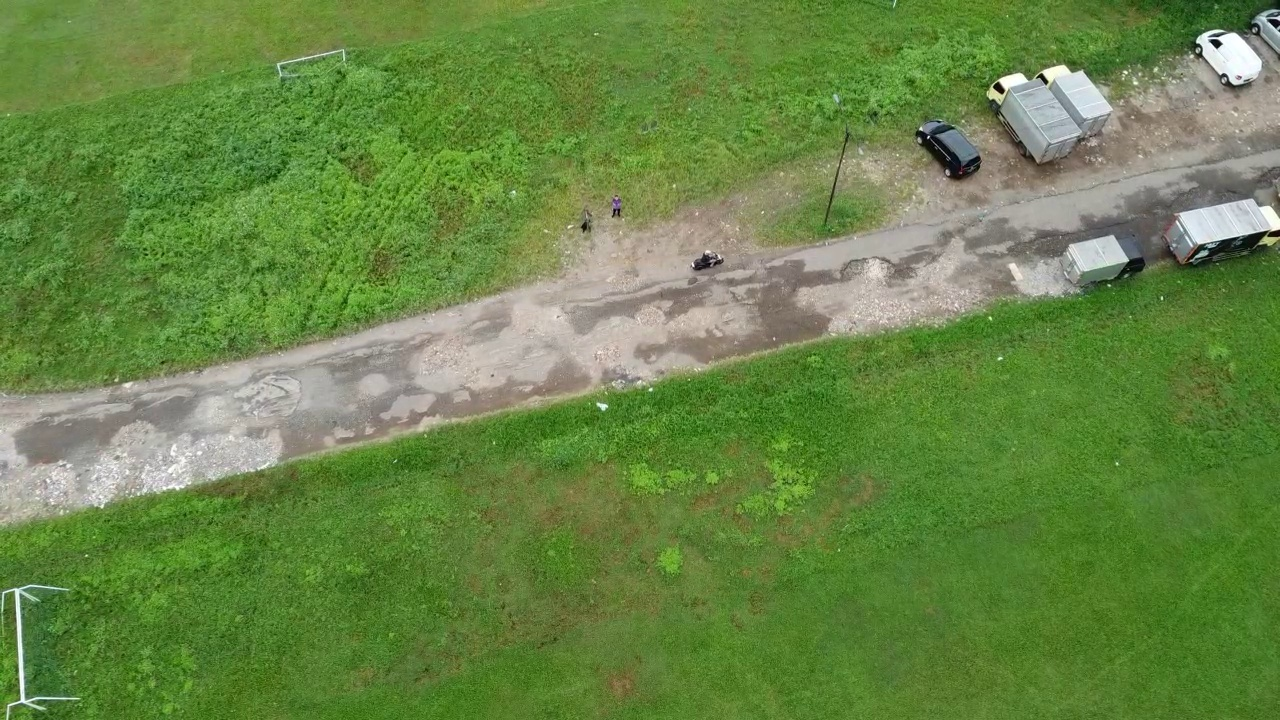mobil: (905, 115, 993, 196), (1190, 17, 1268, 101)
